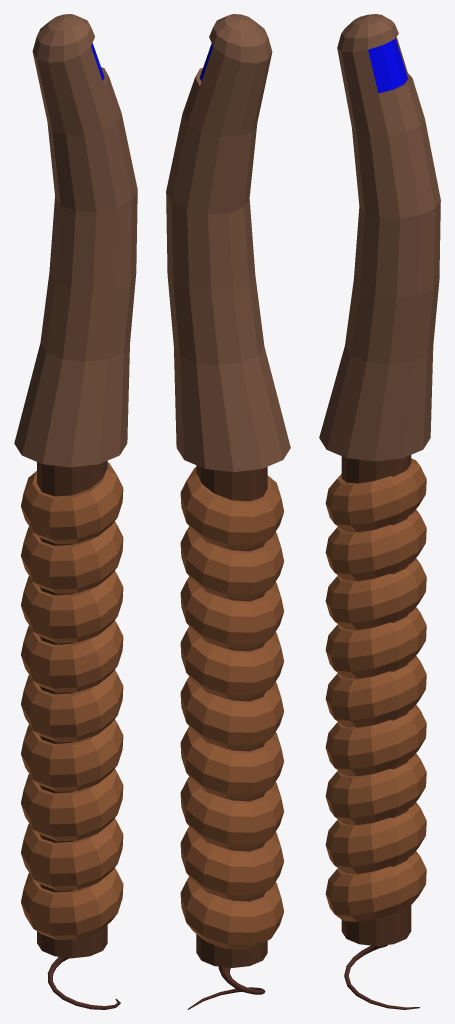
Rendered from Wand 449.glb.
3 renders of one model, left to right at view 1: azimuth 30°, elevation 25°; view 2: azimuth 150°, elevation 25°; view 3: azimuth 330°, elevation 25°, orthographic. The views are drawn at different scales.
Visible parts, largest first — view 1: GeneratedWand; view 2: GeneratedWand; view 3: GeneratedWand.
Boxes of the visible parts, x1,y1,x2,y2 form: GeneratedWand: [14, 14, 137, 1009]; GeneratedWand: [166, 14, 290, 1009]; GeneratedWand: [319, 14, 440, 1009].
Bounding box in the file's own units: 0.0644 × 0.5537 × 0.0581.
